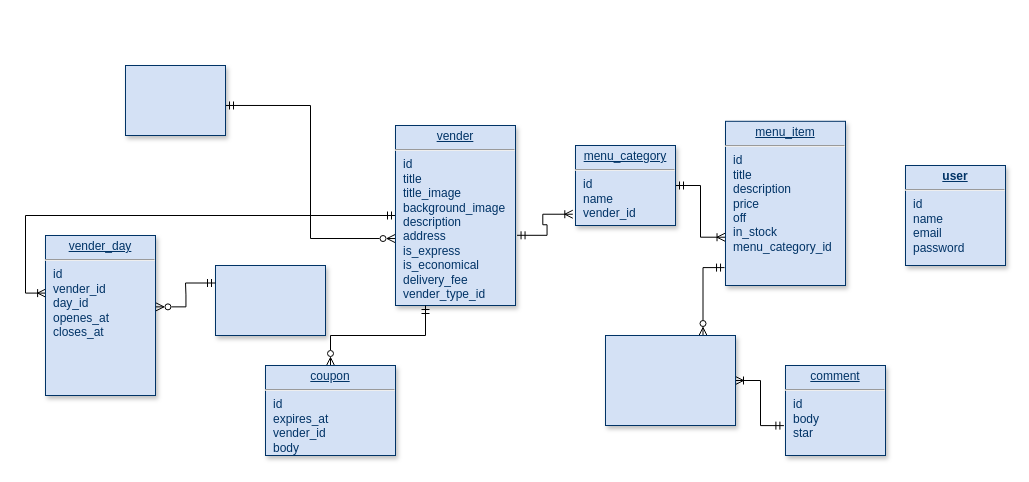
The diagram is 1029 pixels wide and 482 high, and some of its shapes have lost their labels. Each missing label, with the centre of its shape:
"day id name" belongs at pixel 271 301.
"menu_item_comment id menu_item_id comment_id" belongs at pixel 671 381.
"vender_type id type" belongs at pixel 176 101.
